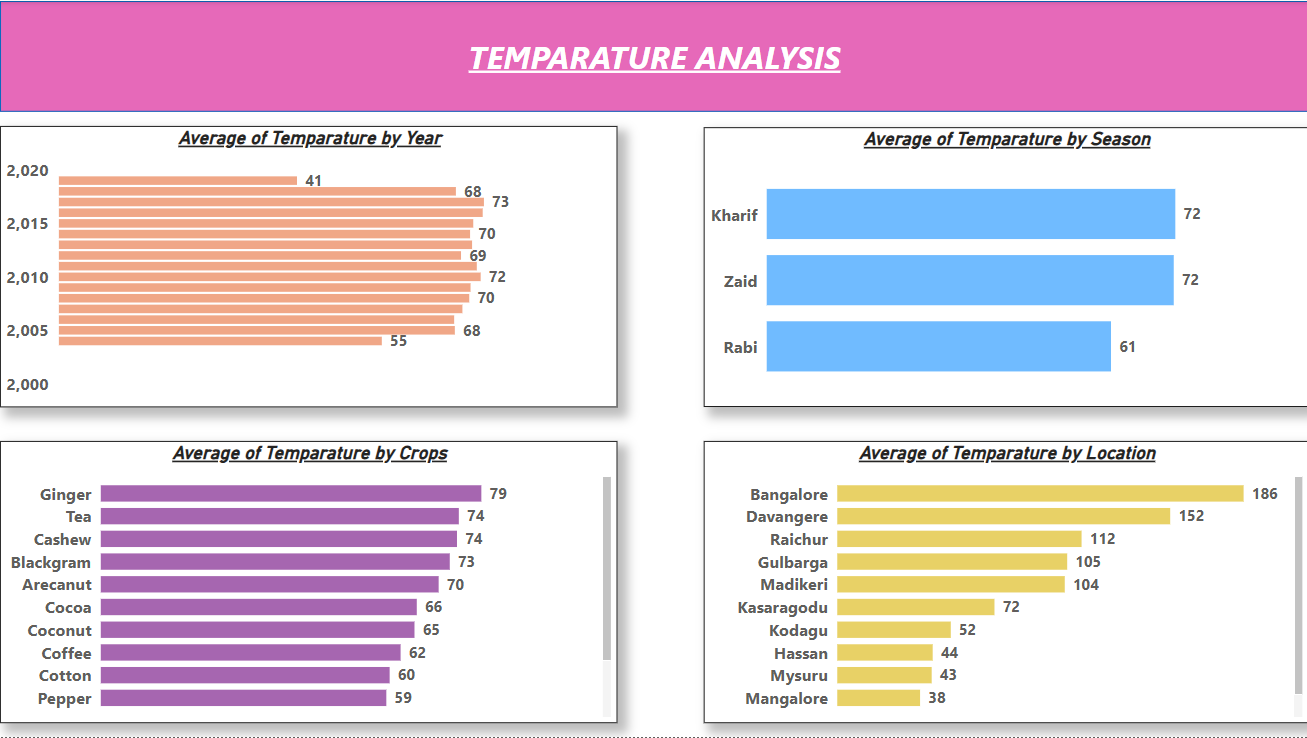

Layout of this report page (visuals, bound fields, positions):
{"tool":"powerbi","page":{"name":"Temparature Analysis","canvas":[1280,720],"ordinal":1},"visuals":[{"type":"shape","box":[0,0,1280.3,108.4],"z":0},{"type":"barChart","title":"Average of Temparature by Year ","fields":{"Category":["AGRICULTURE.YEAR"],"Y":["Avg(AGRICULTURE.TEMPERATURE)"]},"box":[0,122.3,604.1,275.1],"z":1000},{"type":"barChart","title":"Average of Temparature by Crops","fields":{"Category":["AGRICULTURE.CROPS"],"Y":["Avg(AGRICULTURE.TEMPERATURE)"]},"box":[0,430.4,604.1,276.4],"z":2000},{"type":"barChart","title":"Average of Temparature by Season","fields":{"Category":["AGRICULTURE.SEASON"],"Y":["Avg(AGRICULTURE.TEMPERATURE)"]},"box":[688.5,123.5,591.9,273.9],"z":3000},{"type":"barChart","title":"Average of Temparature by Location","fields":{"Category":["AGRICULTURE.LOCATION"],"Y":["Avg(AGRICULTURE.TEMPERATURE)"]},"box":[688.5,430.4,591.9,276.4],"z":4000}]}

Visuals, with their boxes in screenshot pixels (x1, y1, x2, y2), scaled from the page's 1280x720 canvas onto the 1307x738 screenshot:
shape: box(0, 0, 1306, 111)
"Average of Temparature by Year " barChart: box(0, 125, 617, 407)
"Average of Temparature by Crops" barChart: box(0, 441, 617, 724)
"Average of Temparature by Season" barChart: box(703, 127, 1306, 407)
"Average of Temparature by Location" barChart: box(703, 441, 1306, 724)
